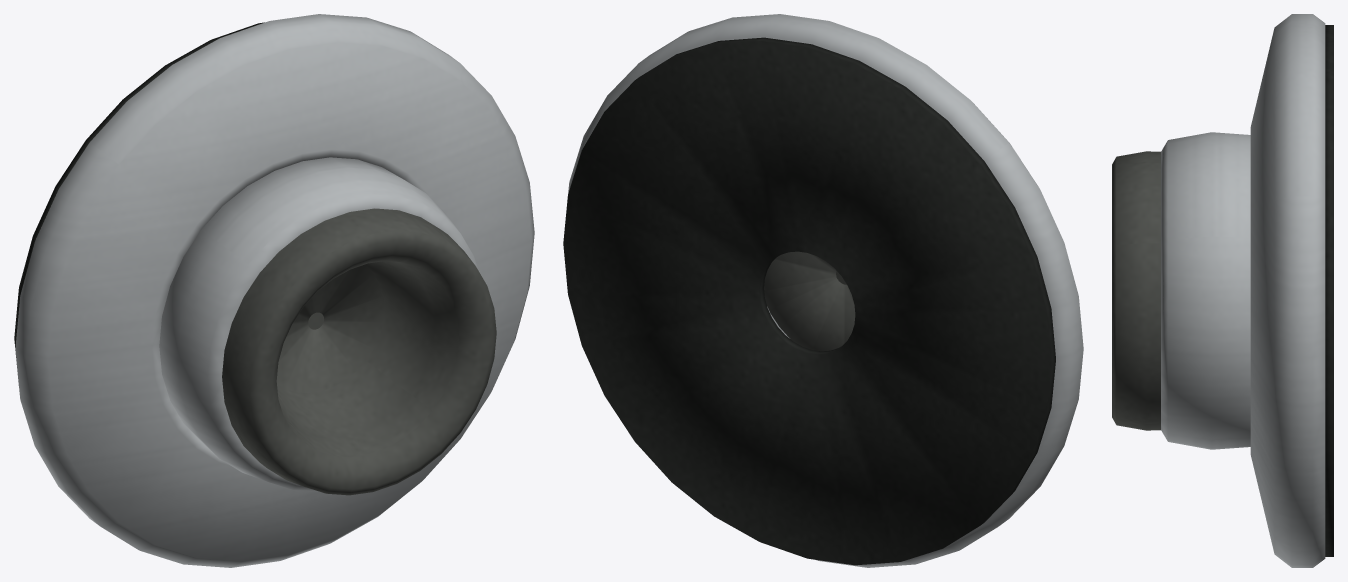
Rendered from me01_concave_wall_bumper_lod0.glb.
3 views of the same model, side by side, from view 1: azimuth 30°, elevation 25°; view 2: azimuth 150°, elevation 25°; view 3: azimuth 270°, elevation 25° (orthographic). The views are drawn at different scales.
Visible parts, largest first — view 1: bumper_cast_flange, bumper_concave_rubber, bumper_retainer_ring, bumper_wall_gasket; view 2: bumper_wall_gasket, bumper_cast_flange, bumper_concave_rubber; view 3: bumper_cast_flange, bumper_retainer_ring, bumper_concave_rubber, bumper_wall_gasket.
Boxes of the visible parts, x1,y1,x2,y2 form: bumper_cast_flange: (15,14,534,567); bumper_concave_rubber: (222,208,496,495); bumper_retainer_ring: (159,157,478,491); bumper_wall_gasket: (14,22,264,385); bumper_wall_gasket: (563,37,1055,565); bumper_cast_flange: (568,14,1083,567); bumper_concave_rubber: (764,251,855,351); bumper_cast_flange: (1250,14,1325,567); bumper_retainer_ring: (1161,132,1250,449); bumper_concave_rubber: (1112,151,1160,430); bumper_wall_gasket: (1325,25,1333,556).
Bounding box in the file's own units: 0.0635 × 0.0635 × 0.0254.
Materials: 3 (3 with a texture image).
